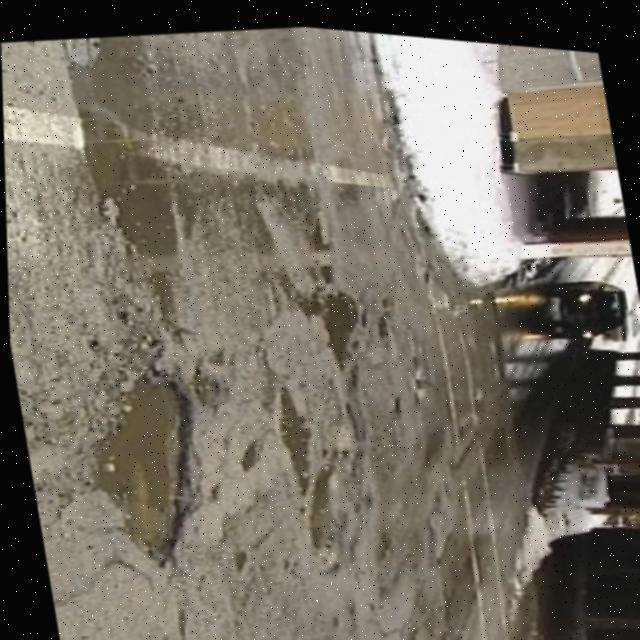pothole: (58, 24, 200, 328), (67, 355, 218, 575), (285, 438, 367, 576), (267, 372, 323, 494), (313, 276, 372, 370)
